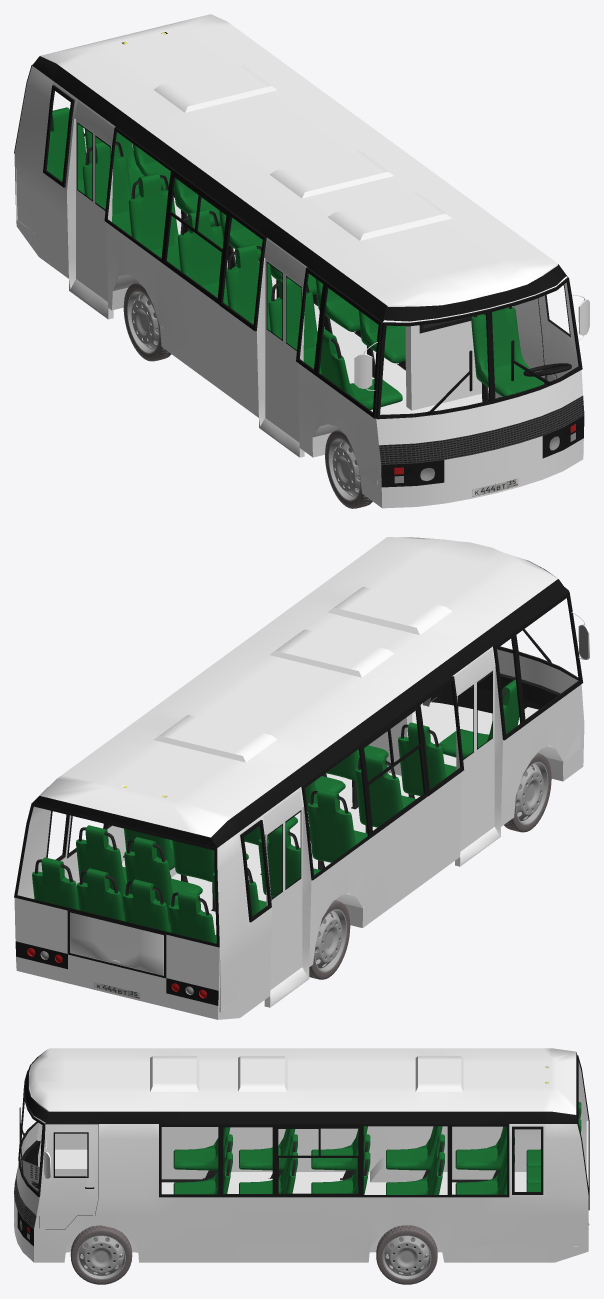
File: puzik.glb
3 renders of one model, top to bottom at view 1: azimuth 30°, elevation 25°; view 2: azimuth 150°, elevation 25°; view 3: azimuth 270°, elevation 25°, orthographic. The views are drawn at different scales.
Parts seen in each view (by area): view 1: Body_0; view 2: Body_0; view 3: Body_0.
Boxes of the visible parts, bbox=[...] form: Body_0: bbox=[14, 14, 589, 508]; Body_0: bbox=[14, 537, 589, 1019]; Body_0: bbox=[14, 1048, 589, 1284].
Size of the model in its own units: 1.12 by 1.07 by 3.13.
15 materials, 2 textured.
